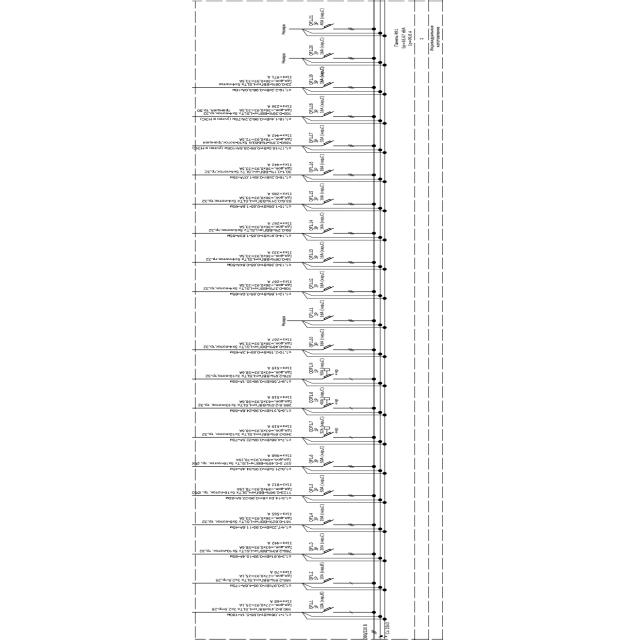-: (313, 474, 325, 494), (313, 445, 325, 464), (313, 504, 325, 523), (314, 386, 325, 406), (314, 562, 325, 581), (314, 271, 325, 290), (314, 125, 325, 144), (314, 590, 324, 610), (314, 416, 324, 436), (314, 328, 324, 348), (314, 154, 325, 172), (314, 242, 325, 260), (314, 8, 325, 26), (314, 357, 324, 376), (314, 183, 324, 202), (314, 66, 324, 85), (314, 533, 324, 552), (314, 212, 324, 231), (314, 37, 324, 56), (314, 96, 324, 114), (314, 300, 324, 318), (393, 28, 399, 48), (333, 428, 339, 434), (334, 370, 340, 376), (334, 399, 339, 405)
ITU: (323, 368, 331, 372), (323, 397, 330, 401), (323, 427, 331, 430)
QF: (321, 490, 338, 498), (321, 519, 337, 527), (321, 606, 337, 614), (322, 343, 337, 351), (322, 315, 337, 323), (321, 169, 336, 177), (321, 140, 336, 148), (321, 110, 336, 118), (321, 432, 338, 439), (321, 461, 338, 468), (321, 548, 338, 555), (321, 578, 338, 585), (322, 285, 336, 293), (322, 227, 336, 235), (321, 23, 335, 31), (321, 198, 336, 205), (321, 82, 336, 89), (321, 53, 336, 60), (322, 373, 335, 381), (322, 257, 336, 264), (321, 403, 335, 409)
